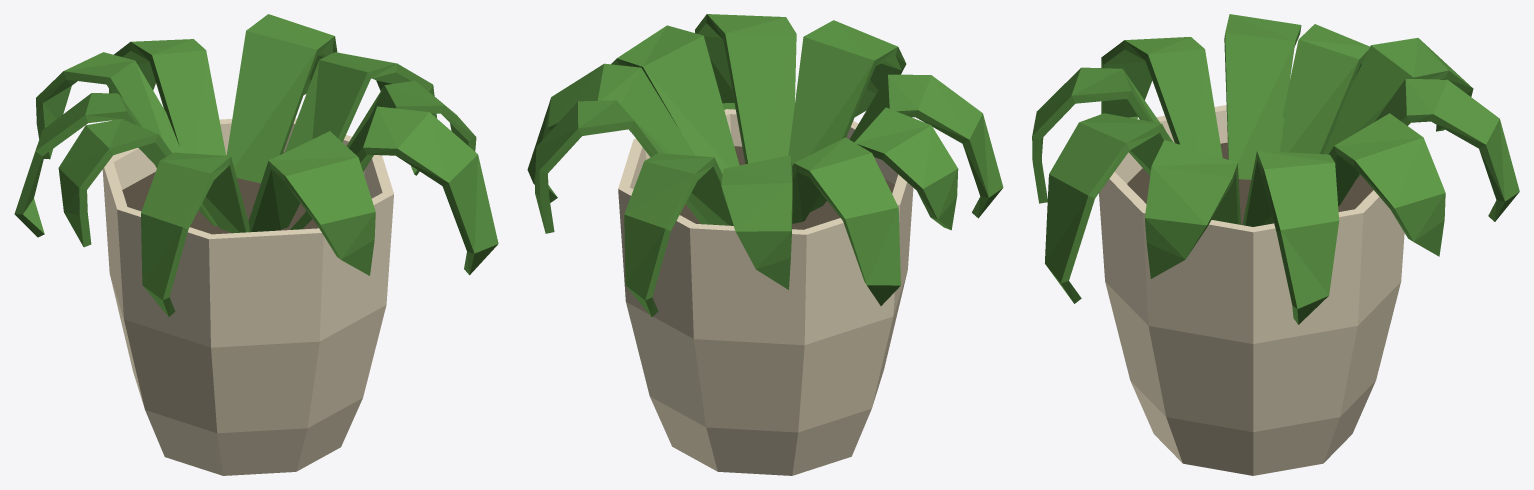
File: cafe_plant_fern.fbx
The picture shows the model from 3 angles, left to right: view 1: azimuth 30°, elevation 25°; view 2: azimuth 150°, elevation 25°; view 3: azimuth 270°, elevation 25°; orthographic projection. The views are drawn at different scales.
Parts seen in each view (by area): view 1: cafe_plant_fern_LOD0; view 2: cafe_plant_fern_LOD0; view 3: cafe_plant_fern_LOD0.
Part boxes in pixels (x1=…): cafe_plant_fern_LOD0: x1=14, y1=14, x2=498, y2=475; cafe_plant_fern_LOD0: x1=527, y1=14, x2=1003, y2=475; cafe_plant_fern_LOD0: x1=1032, y1=14, x2=1519, y2=475.
Size of what is drawn, in the model's own units: 0.749 by 0.62 by 0.7733.
Materials: 1 (1 with a texture image).
